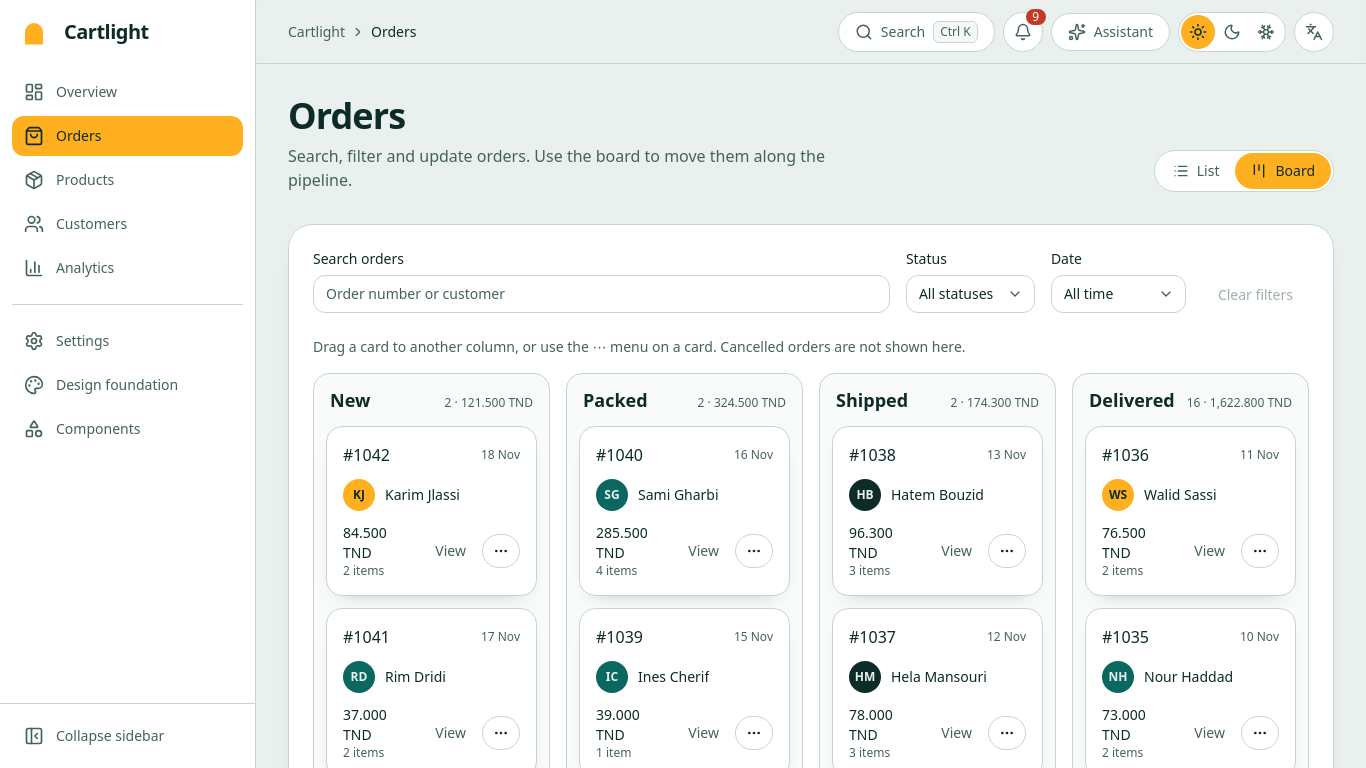
Test case: orders board › opens the order details from a card
Expected: the heading "New" is shown, [330,386,370,414]
Click the button with aria-label "View order #1042" at (451, 551), box [423,535,478,567]
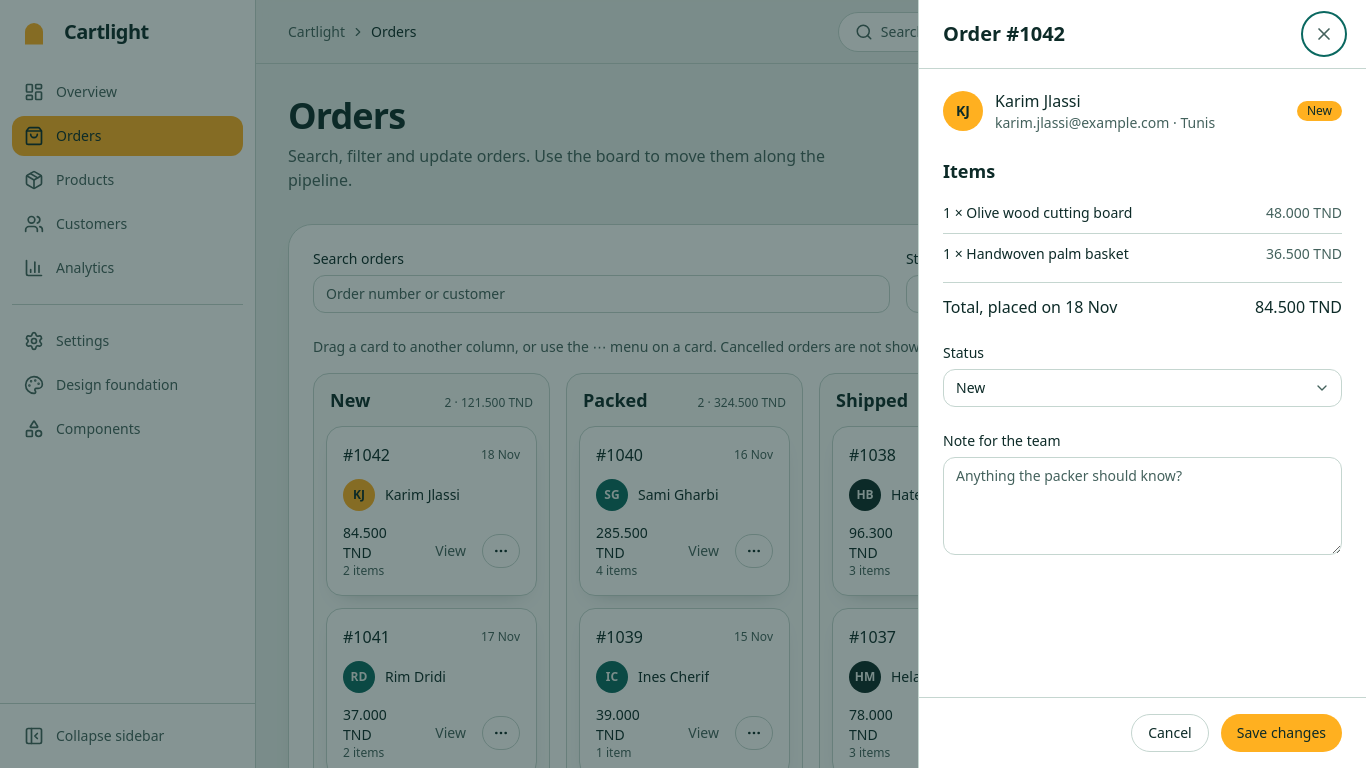
Now the dialog "Order #1042" is shown, box [918,0,1365,767]
